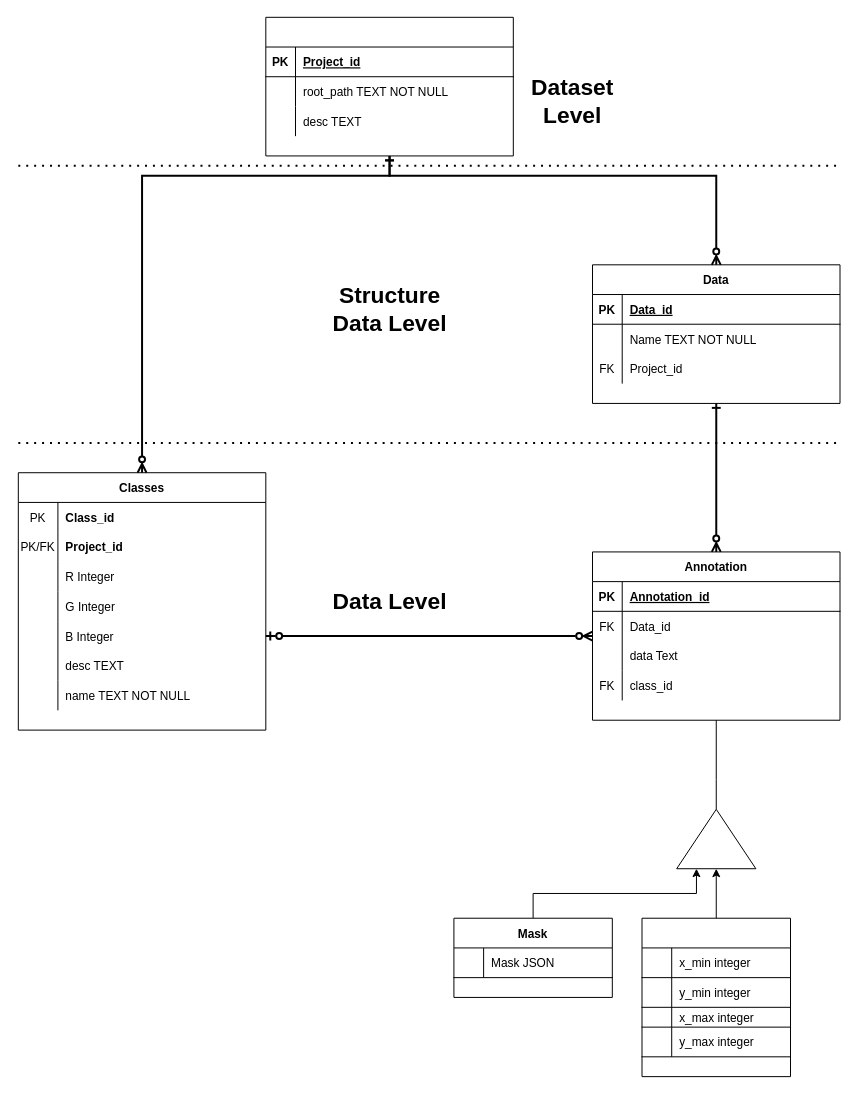
The diagram is 858 pixels wide and 1094 high, and some of its shapes have lost their labels. Here are the shapes that lost their labels. From the top down, the box of each, then its label:
(265, 16, 513, 156): Projects
(641, 917, 791, 1077): bbox
